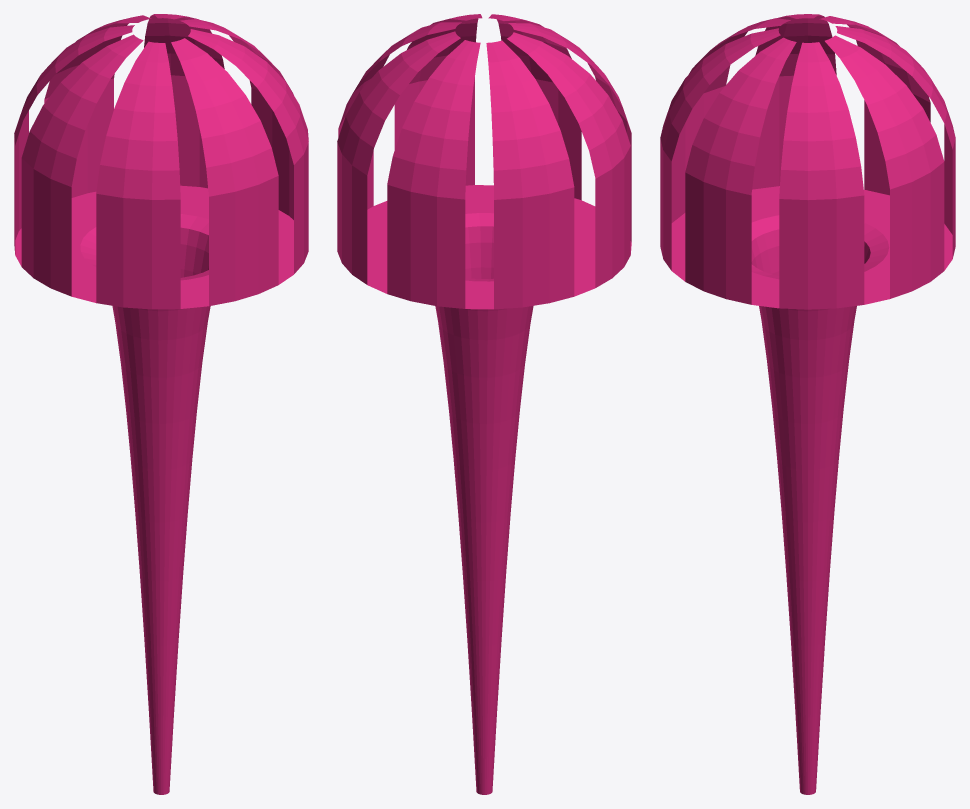
Rendered from Map02.fbx.
3 renders of one model, left to right at view 1: azimuth 30°, elevation 25°; view 2: azimuth 150°, elevation 25°; view 3: azimuth 270°, elevation 25°, orthographic.
Visible parts, largest first — view 1: Domo3; view 2: Domo3; view 3: Domo3.
Boxes of the visible parts, bbox=[...] form: Domo3: bbox=[14, 14, 308, 794]; Domo3: bbox=[337, 14, 631, 794]; Domo3: bbox=[660, 14, 955, 794].
Bounding box in the file's own units: 3956 × 11248 × 3956.
